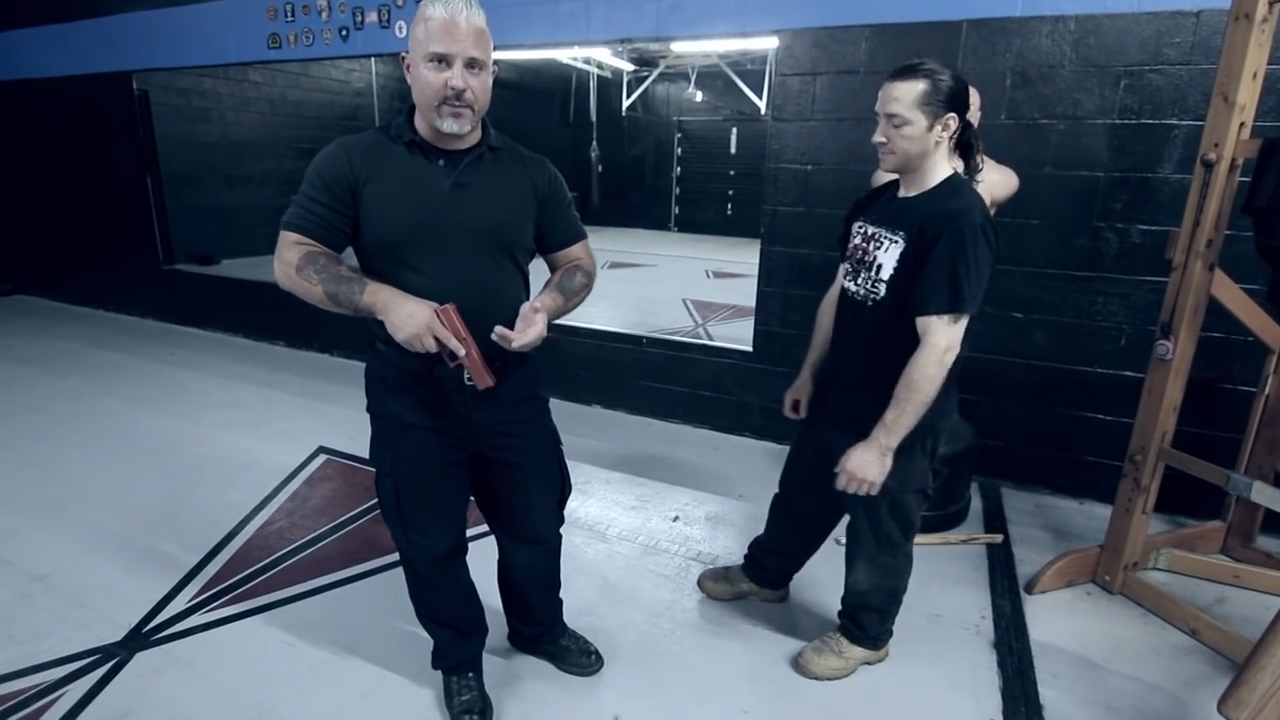pistol: (429, 301, 498, 393)
